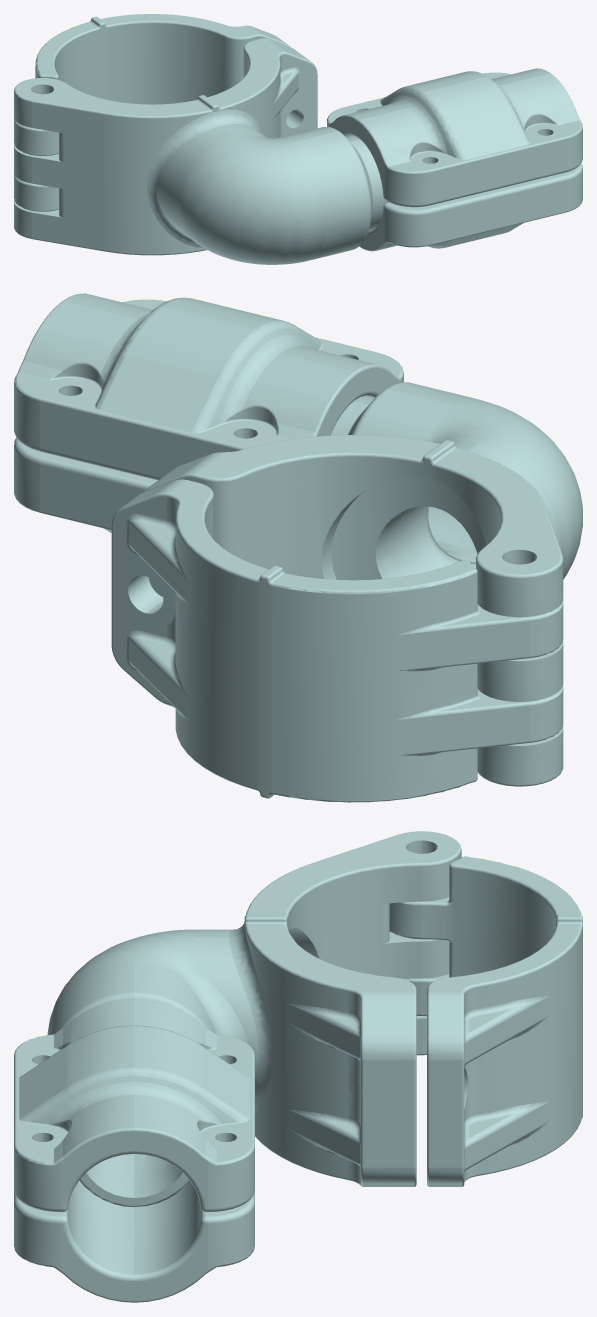
The picture shows the model from 3 angles, top to bottom: view 1: azimuth 30°, elevation 25°; view 2: azimuth 150°, elevation 25°; view 3: azimuth 270°, elevation 25°; orthographic projection. The views are drawn at different scales.
Bounding box in the file's own units: 131 × 43.8 × 109.
